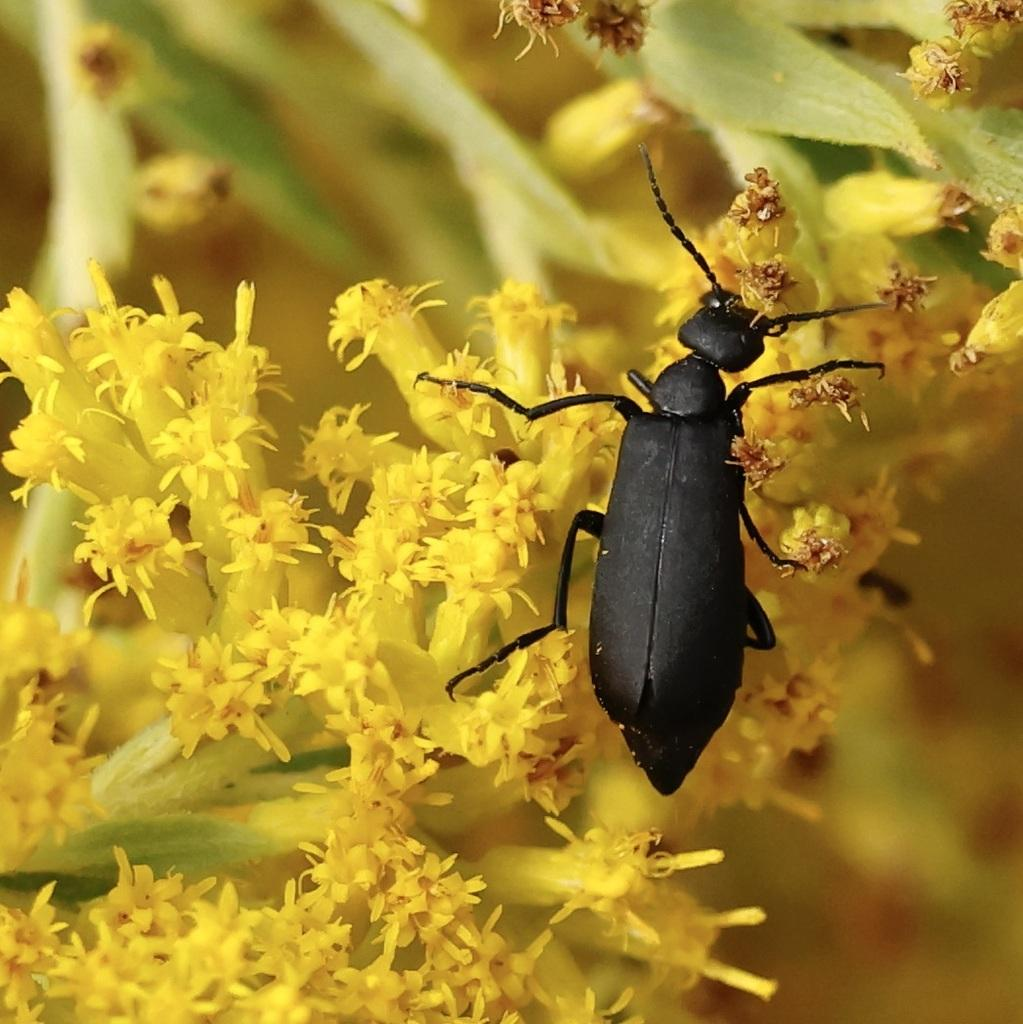blister_beetle: (355, 102, 947, 856)
